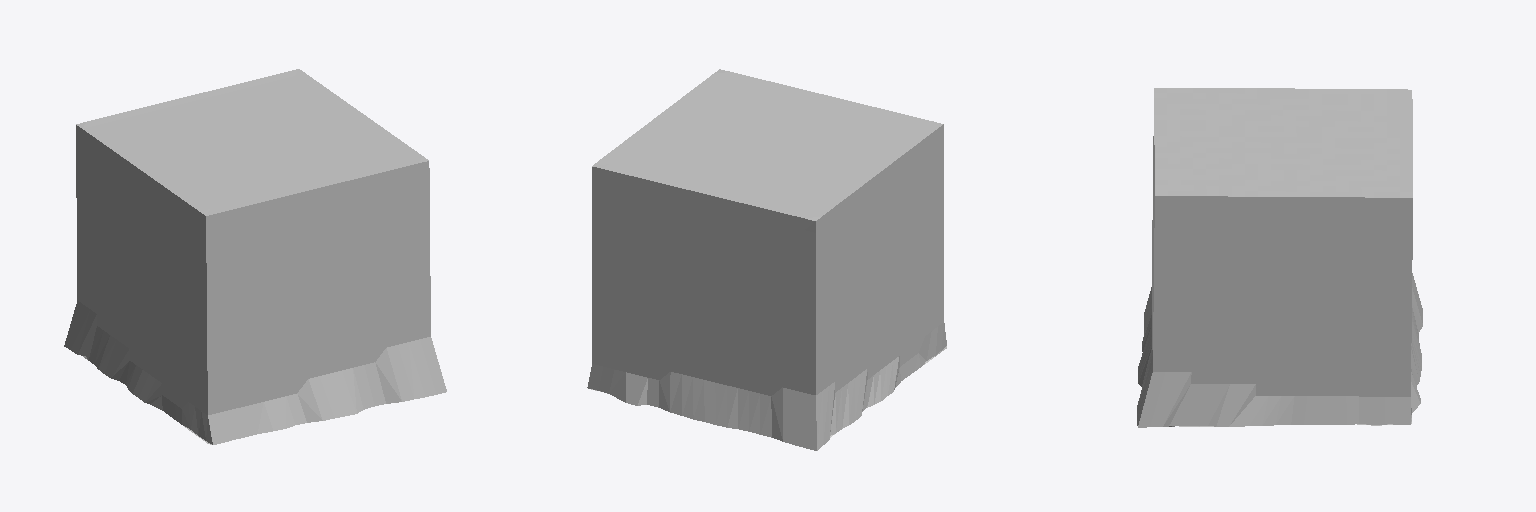
File: mod0098.obj
The picture shows the model from 3 angles: view 1: azimuth 30°, elevation 25°; view 2: azimuth 150°, elevation 25°; view 3: azimuth 270°, elevation 25°; orthographic projection.
Visible parts, largest first — view 1: Box001; view 2: Box001; view 3: Box001.
Part boxes in pixels (x1,y1,x2,y2): Box001: (64, 69, 446, 444); Box001: (587, 69, 946, 450); Box001: (1137, 88, 1422, 427).
Size of the model in its own units: 0.5799 by 0.5252 by 0.5979.